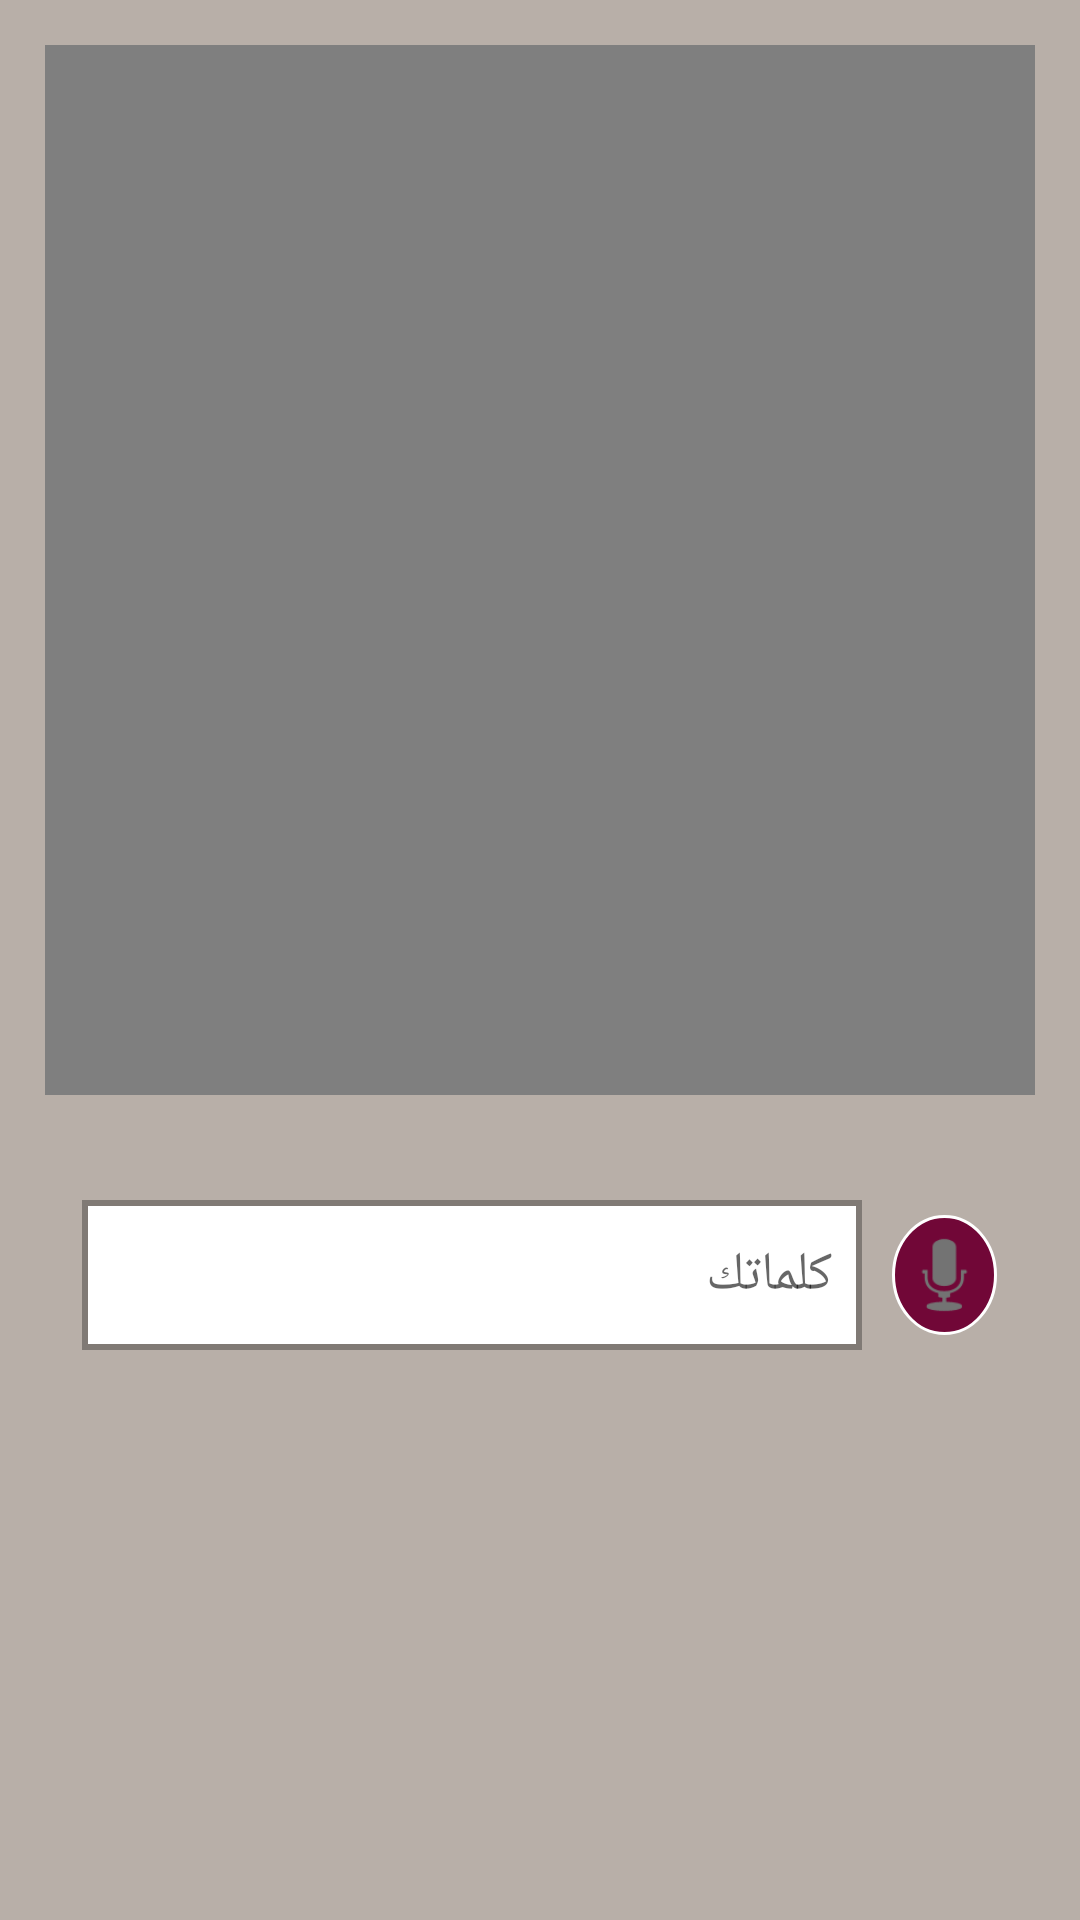

Icons on this 1080px x 1920px Android screen, each with its box as (x1, y1, x2, y2):
speak now: (892, 1215, 997, 1335)
